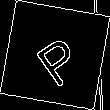P_NW: (25, 24, 85, 86)
